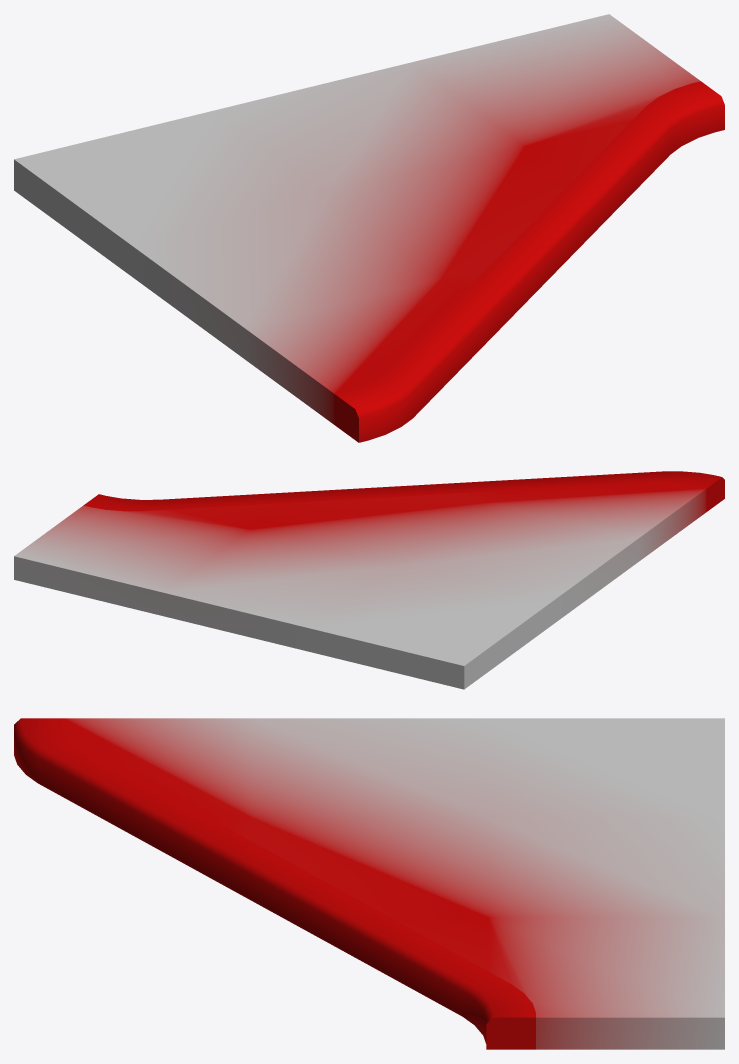
The model's file is Sidewalk_Inset_3m_L.gltf.
3 renders of one model, top to bottom at view 1: azimuth 30°, elevation 25°; view 2: azimuth 150°, elevation 25°; view 3: azimuth 270°, elevation 25°, orthographic. The views are drawn at different scales.
Parts seen in each view (by area): view 1: Sidewalk_Inset_3m_L; view 2: Sidewalk_Inset_3m_L; view 3: Sidewalk_Inset_3m_L.
Part boxes in pixels (x1,y1,x2,y2): Sidewalk_Inset_3m_L: (14,14,724,442); Sidewalk_Inset_3m_L: (14,471,724,689); Sidewalk_Inset_3m_L: (14,718,724,1049).
Size of what is drawn, in the model's own units: 3 by 0.15 by 3.01.
